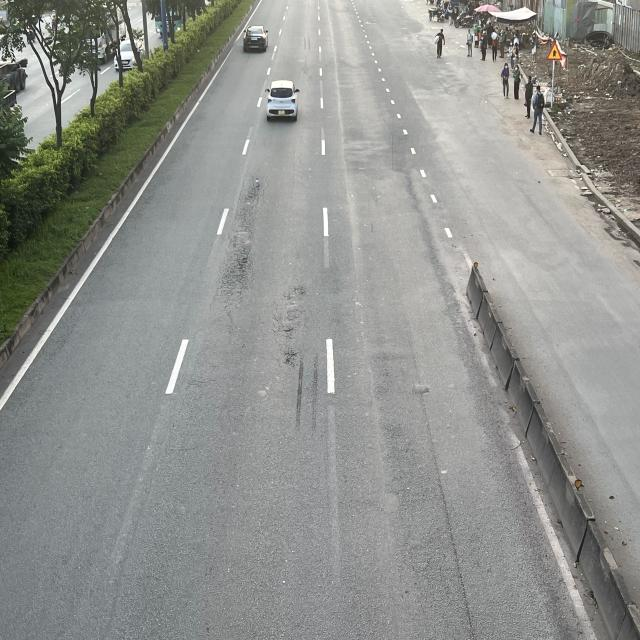car: (266, 80, 300, 120), (243, 25, 268, 53)
